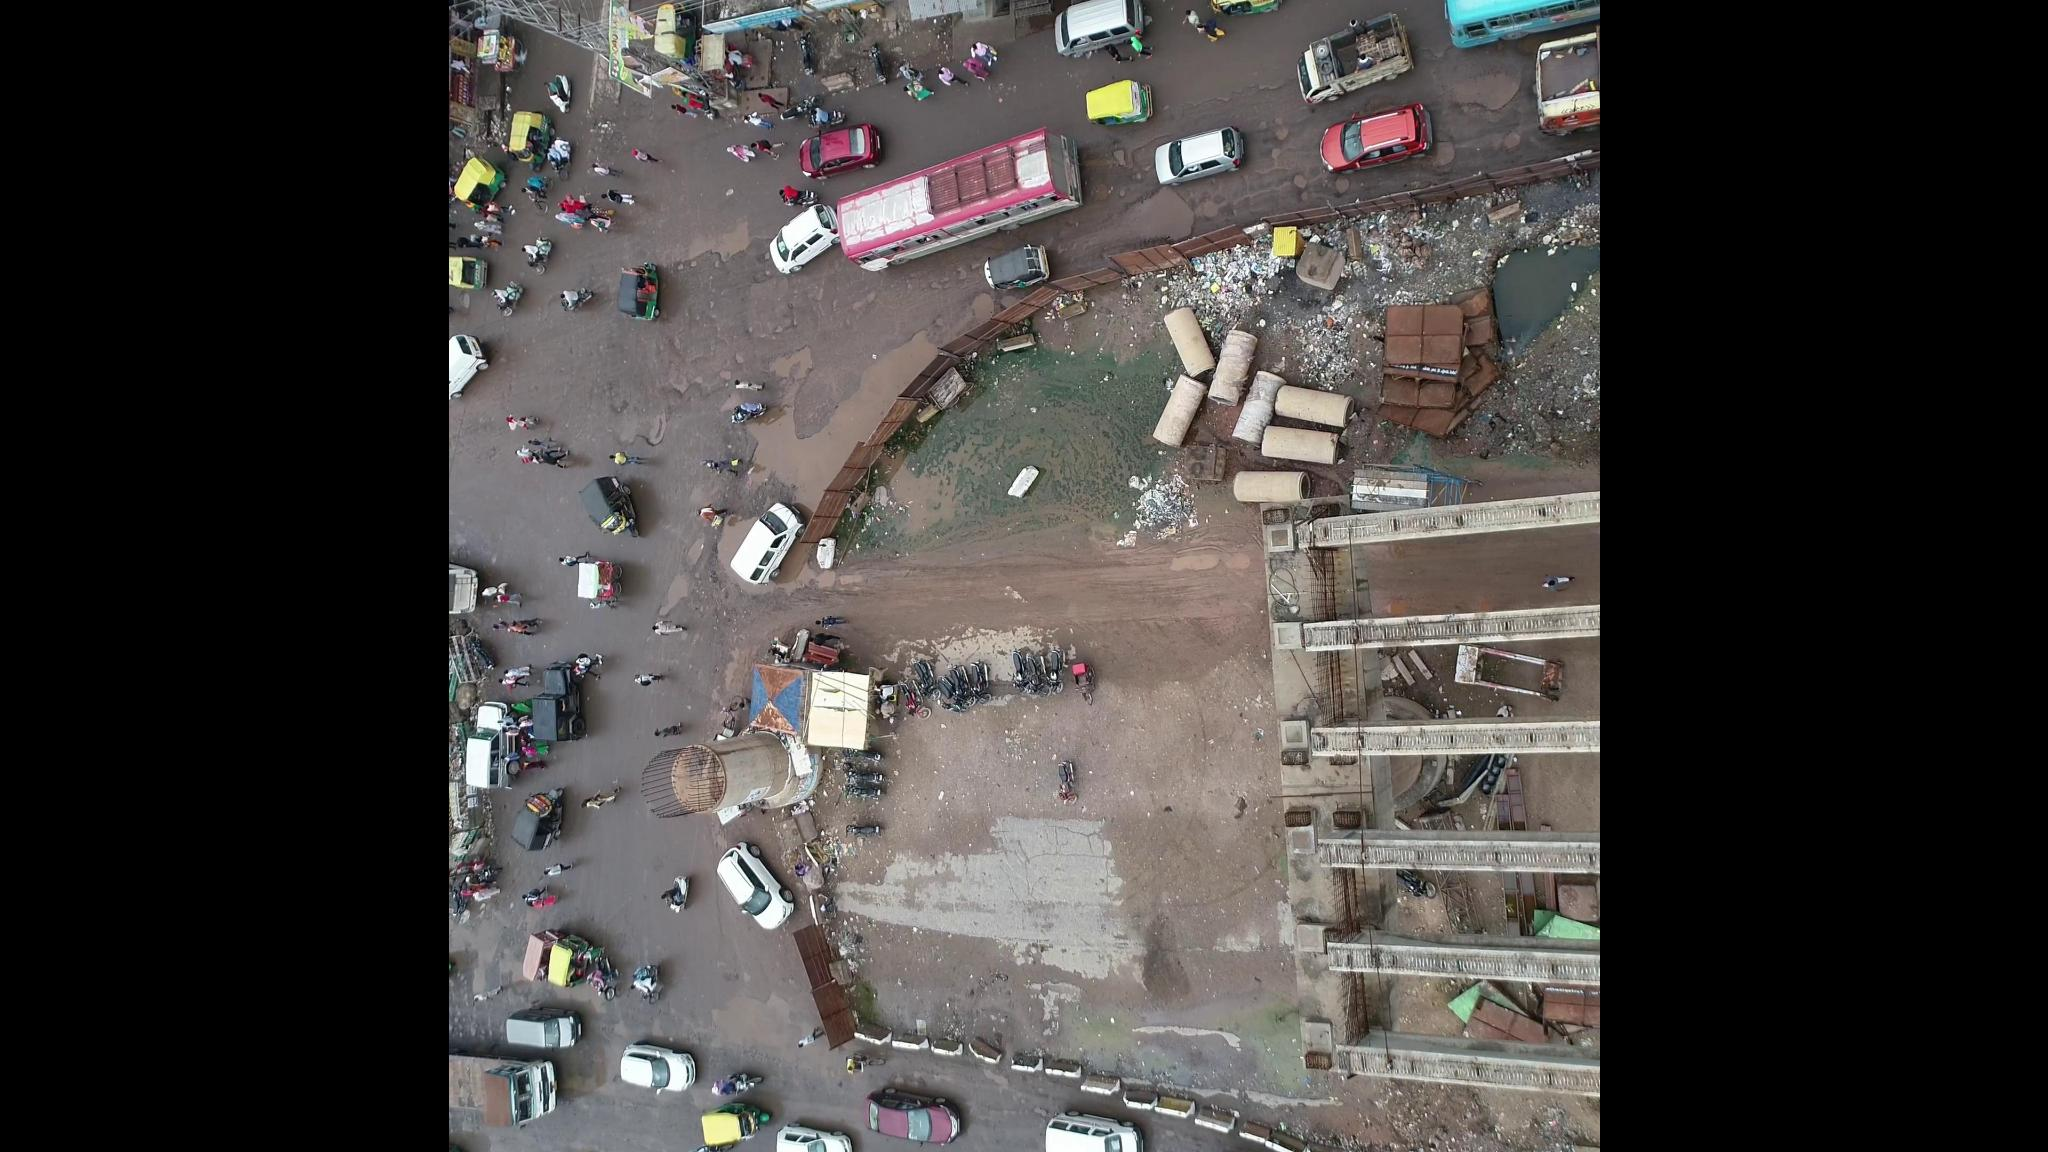Potholes: (911, 257, 978, 311), (672, 242, 731, 300)
